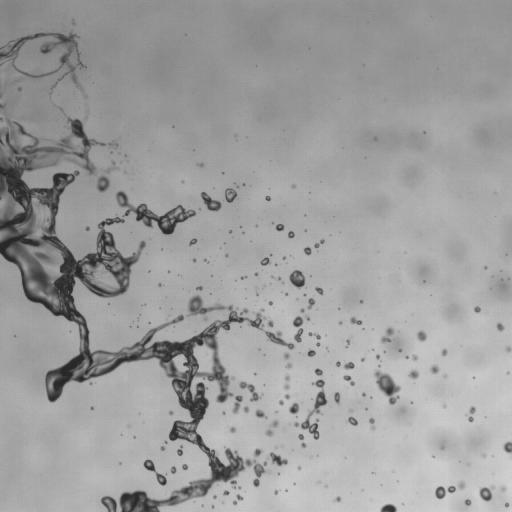droplet: (0, 32, 83, 98), (289, 270, 305, 288), (479, 485, 494, 501), (225, 188, 236, 202), (289, 402, 299, 415), (417, 330, 426, 341), (255, 409, 266, 418), (408, 370, 418, 379), (347, 416, 357, 425), (350, 317, 362, 324), (233, 495, 242, 504), (260, 257, 270, 265), (307, 298, 314, 309), (343, 362, 354, 369), (334, 392, 340, 403), (496, 323, 504, 331), (430, 365, 438, 373), (314, 368, 322, 376), (177, 445, 183, 455), (276, 224, 284, 231), (189, 238, 197, 245), (304, 247, 311, 255), (315, 287, 323, 294), (307, 349, 315, 356), (109, 141, 118, 147), (267, 319, 273, 327), (288, 231, 294, 238), (474, 306, 480, 313), (170, 466, 176, 473), (441, 349, 447, 355), (334, 496, 340, 502), (465, 499, 471, 505), (284, 352, 289, 359), (412, 354, 417, 360), (286, 363, 292, 368), (284, 394, 290, 399), (243, 406, 248, 412), (230, 427, 236, 432), (298, 434, 303, 440), (182, 464, 187, 470), (500, 486, 506, 491), (346, 339, 350, 346), (506, 346, 511, 351), (223, 490, 228, 495), (196, 286, 202, 290), (198, 163, 203, 167), (265, 196, 270, 200), (268, 301, 273, 305), (336, 361, 340, 366), (279, 400, 283, 405), (274, 490, 279, 494), (17, 87, 21, 91), (291, 184, 295, 188), (85, 226, 89, 230), (254, 272, 258, 276), (278, 277, 282, 281), (300, 308, 304, 312), (301, 443, 305, 447), (241, 276, 246, 279), (376, 354, 379, 359), (59, 107, 62, 111), (306, 316, 309, 320), (316, 343, 320, 346), (169, 410, 172, 414), (161, 446, 164, 450), (282, 256, 285, 259), (193, 258, 196, 261), (361, 358, 364, 361), (444, 374, 447, 377), (443, 404, 446, 407), (482, 454, 485, 457), (297, 466, 300, 469), (505, 503, 508, 506), (225, 254, 228, 256), (204, 259, 207, 261), (271, 276, 274, 278), (339, 321, 341, 324), (362, 393, 365, 395), (90, 407, 93, 409), (213, 496, 216, 498), (484, 266, 486, 268), (399, 349, 401, 351), (406, 356, 408, 358), (441, 447, 443, 449)
ligament: (0, 103, 294, 511), (294, 378, 327, 439), (374, 368, 401, 404), (96, 160, 117, 192), (143, 459, 166, 485), (435, 481, 465, 499), (239, 381, 261, 401), (200, 192, 221, 211), (49, 73, 66, 95), (268, 452, 287, 466), (293, 316, 303, 342), (265, 420, 279, 436), (381, 327, 394, 343), (232, 395, 242, 413), (503, 440, 511, 456), (468, 406, 475, 422), (380, 504, 396, 511), (343, 375, 354, 385), (314, 239, 324, 248), (284, 374, 290, 389), (308, 332, 320, 339), (369, 418, 375, 429)
